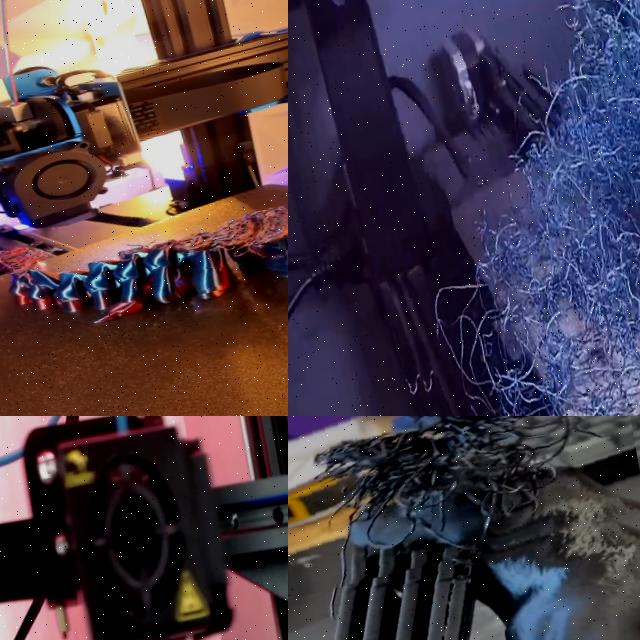spaghetti: (339, 0, 640, 416), (288, 416, 640, 598), (184, 162, 288, 294)
